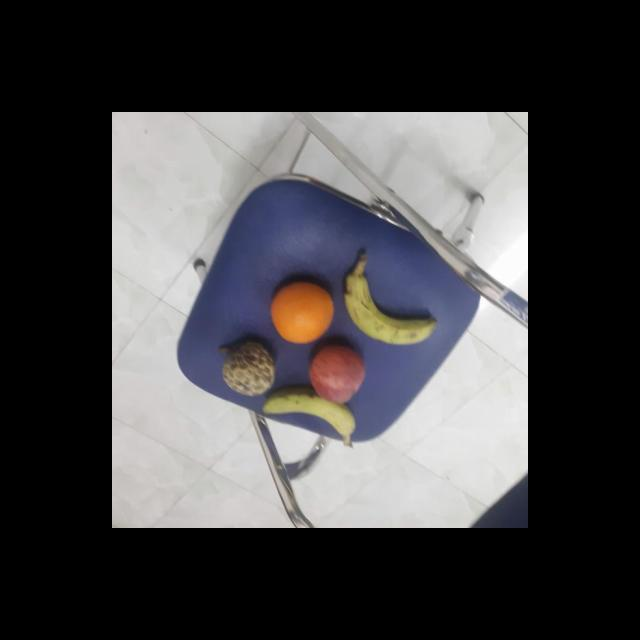Sakya fruit: (220, 339, 278, 396)
apple: (307, 344, 368, 408)
banana: (343, 270, 437, 345), (260, 390, 360, 442)
orange: (269, 280, 336, 342)
